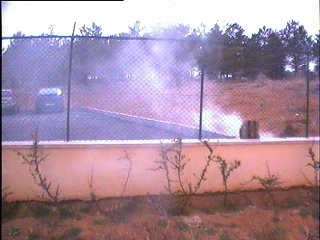smoke: (107, 27, 274, 141)
